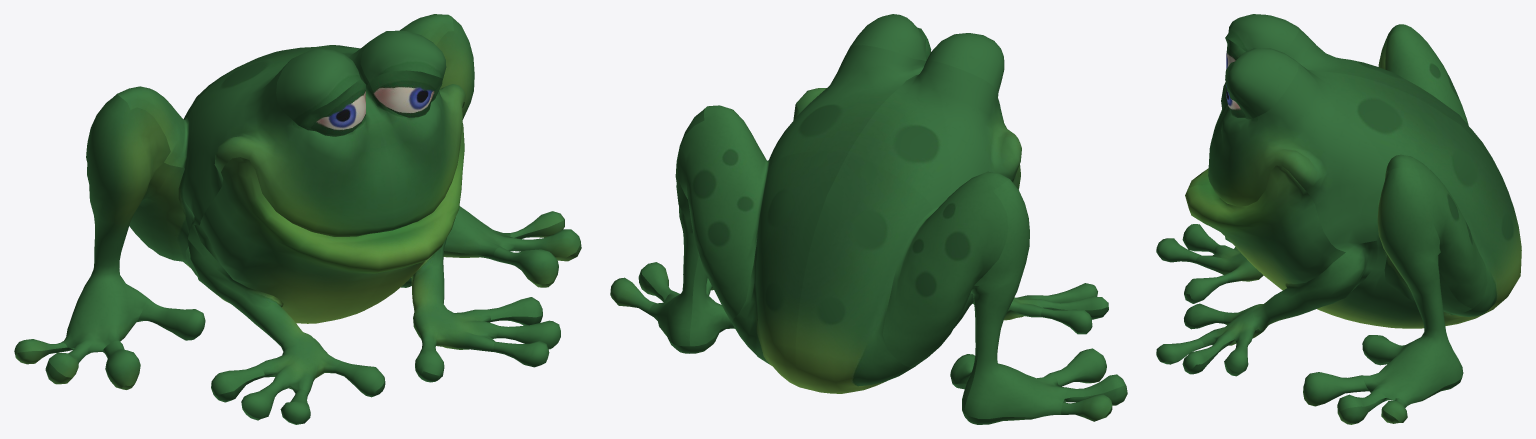
File: frog_0e6df765.glb
3 views of the same model, side by side, from view 1: azimuth 30°, elevation 25°; view 2: azimuth 150°, elevation 25°; view 3: azimuth 270°, elevation 25° (orthographic). The views are drawn at different scales.
Visible parts, largest first — view 1: Frog_low; view 2: Frog_low; view 3: Frog_low.
Part boxes in pixels (<box>): Frog_low: <box>14,14,581,424</box>; Frog_low: <box>610,14,1127,424</box>; Frog_low: <box>1156,14,1521,424</box>.
Bounding box in the file's own units: 401 × 224 × 261.
Materials: 1 (1 with a texture image).
